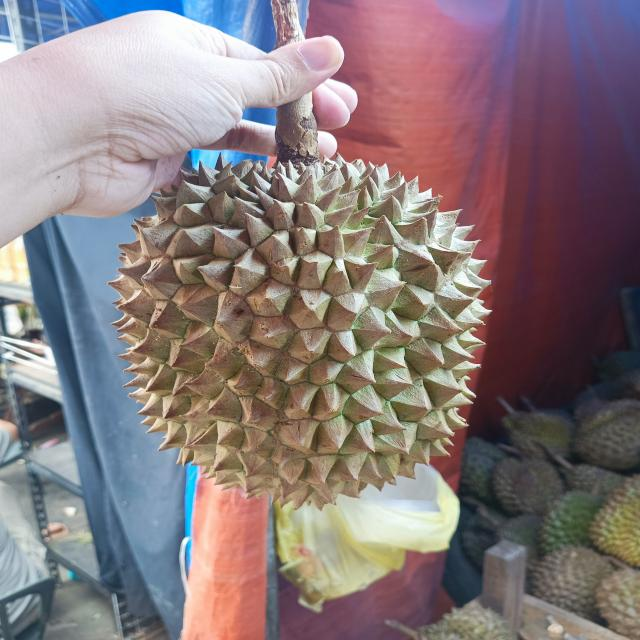mature: (113, 157, 487, 509)
